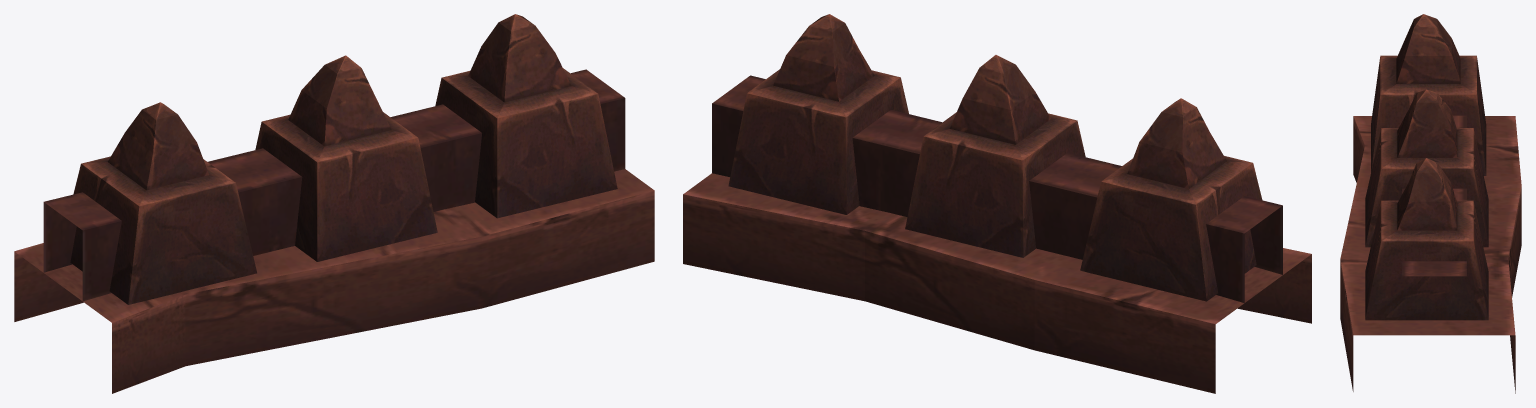
File: lava_railing_straight_01.fbx
The picture shows the model from 3 angles, left to right: view 1: azimuth 30°, elevation 25°; view 2: azimuth 150°, elevation 25°; view 3: azimuth 270°, elevation 25°; orthographic projection. The views are drawn at different scales.
Parts seen in each view (by area): view 1: obj1.009; view 2: obj1.009; view 3: obj1.009.
Part boxes in pixels (bbox=[...]): obj1.009: bbox=[14, 14, 654, 393]; obj1.009: bbox=[683, 14, 1311, 393]; obj1.009: bbox=[1340, 14, 1521, 393].
Size of the model in its own units: 4 by 1.68 by 1.4.
